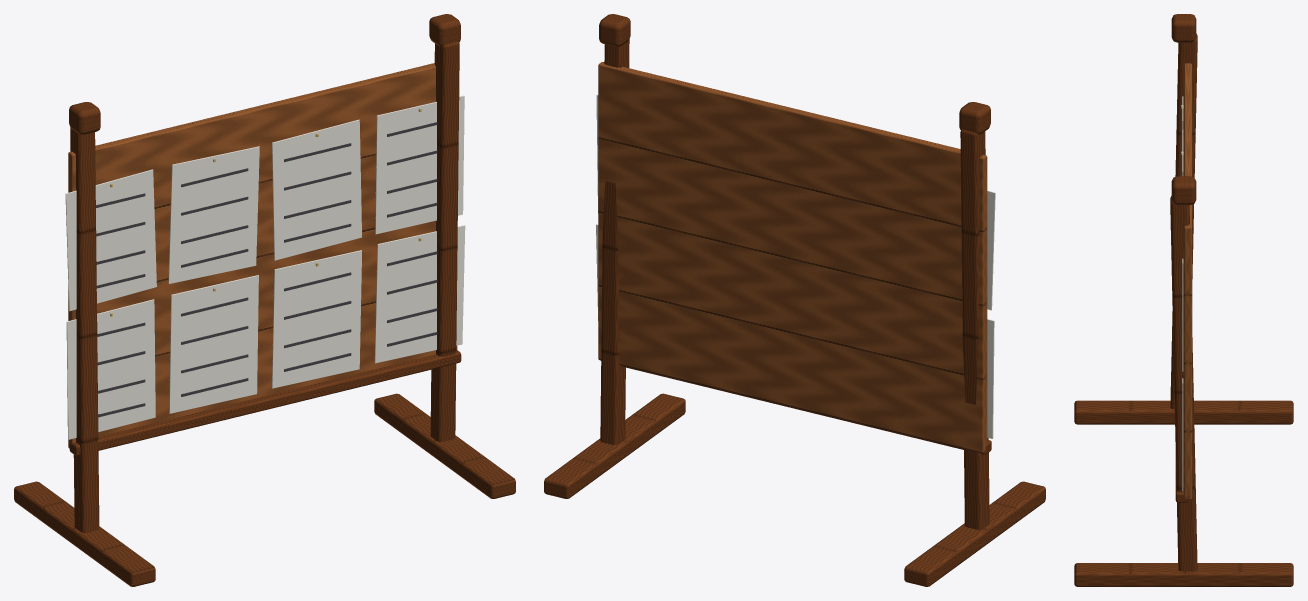
The model's file is printing-press-and-newspaper-office-proof-board-80825b92__37764.glb.
3 views of the same model, side by side, from view 1: azimuth 30°, elevation 25°; view 2: azimuth 150°, elevation 25°; view 3: azimuth 270°, elevation 25° (orthographic). The views are drawn at different scales.
Visible parts, largest first — view 1: proof-board; view 2: proof-board; view 3: proof-board.
Part boxes in pixels (x1,y1,x2,y2): proof-board: [14, 14, 515, 586]; proof-board: [544, 14, 1045, 586]; proof-board: [1074, 14, 1293, 586].
Size of the model in its own units: 1.55 by 1.62 by 0.7999.
5 materials, 2 textured.
